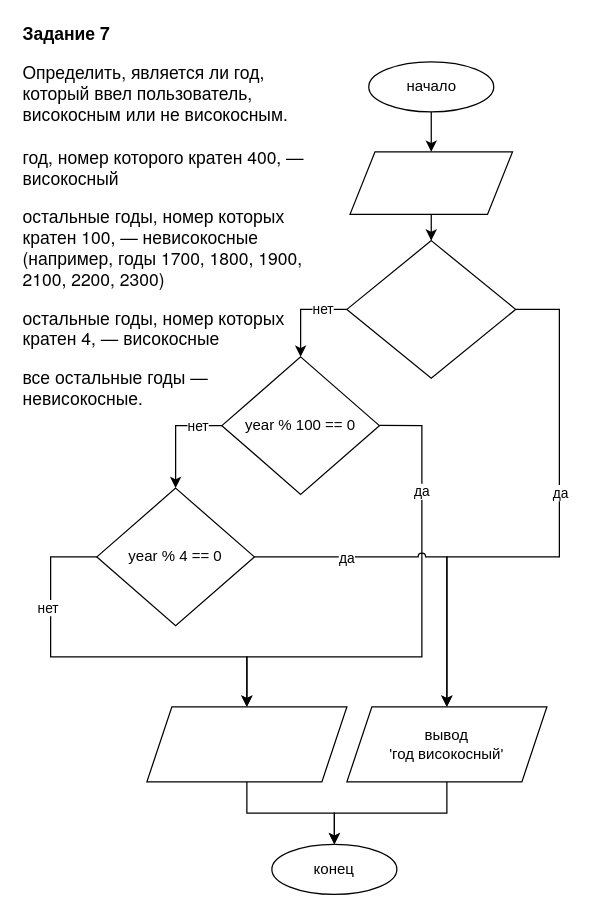
Image size: 591x916. Some labels were removed from this diagram. The centre of each missing label's shape, as x and y in pixels:
"year % 400 == 0" goes at pixel 431 308.
"ввод года: year" goes at pixel 430 182.
"вывод 'год не високосный'" goes at pixel 246 744.
